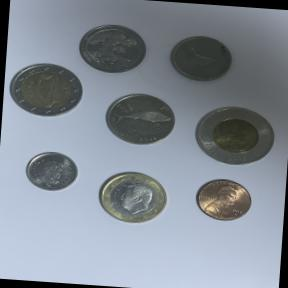coin: (186, 96, 284, 175), (90, 164, 177, 232), (98, 85, 181, 153), (5, 58, 86, 122), (72, 19, 152, 77), (188, 174, 258, 228), (20, 145, 84, 197)
